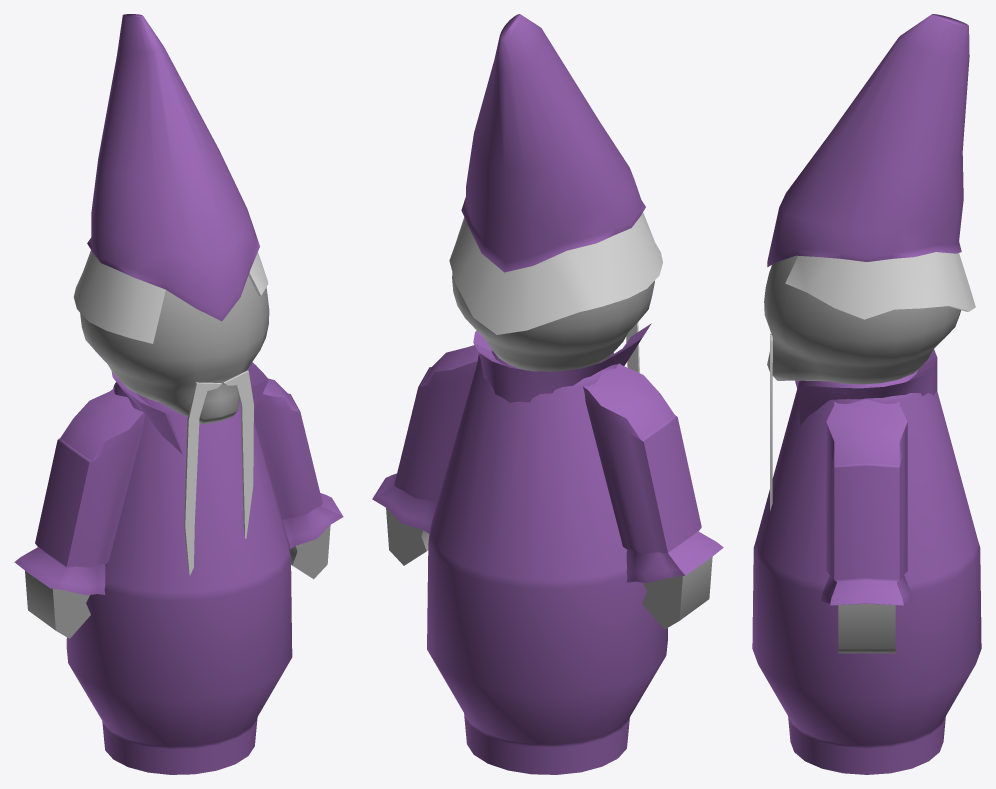
Rendered from DivinerModel.fbx.
3 renders of one model, left to right at view 1: azimuth 30°, elevation 25°; view 2: azimuth 150°, elevation 25°; view 3: azimuth 270°, elevation 25°, orthographic. The views are drawn at different scales.
Visible parts, largest first — view 1: pasted__pCylinder3, pasted__pCylinder8, pasted__pCube1, pasted__pSphere1, pasted__pCube3, pasted__pCylinder5, pasted__pPlane2, pasted__pCube2, pasted__pCylinder6, pasted__pCube4; view 2: pasted__pCylinder3, pasted__pCylinder8, pasted__pCube1, pasted__pCylinder5, pasted__pCube3, pasted__pSphere1, pasted__pCylinder6, pasted__pCube2, pasted__pCube4; view 3: pasted__pCylinder3, pasted__pCylinder8, pasted__pCube3, pasted__pSphere1, pasted__pCylinder5, pasted__pCube4, pasted__pCylinder6, pasted__pPlane2.
Part boxes in pixels (<box>): pasted__pCylinder3: <box>66,382,292,774</box>; pasted__pCylinder8: <box>87,14,259,321</box>; pasted__pCube1: <box>14,388,145,595</box>; pasted__pSphere1: <box>80,276,269,424</box>; pasted__pCube3: <box>254,378,343,548</box>; pasted__pCylinder5: <box>73,250,268,343</box>; pasted__pPlane2: <box>184,370,253,575</box>; pasted__pCube2: <box>25,571,90,638</box>; pasted__pCylinder6: <box>111,362,268,454</box>; pasted__pCube4: <box>290,525,330,579</box>; pasted__pCylinder3: <box>427,351,667,774</box>; pasted__pCylinder8: <box>461,14,645,272</box>; pasted__pCube1: <box>583,363,723,582</box>; pasted__pCylinder5: <box>449,212,662,334</box>; pasted__pCube3: <box>372,345,478,533</box>; pasted__pSphere1: <box>452,272,654,371</box>; pasted__pCylinder6: <box>473,323,651,402</box>; pasted__pCube2: <box>642,557,712,629</box>; pasted__pCube4: <box>386,508,429,565</box>; pasted__pCylinder3: <box>752,370,981,774</box>; pasted__pCylinder8: <box>767,14,969,267</box>; pasted__pCube3: <box>821,399,912,605</box>; pasted__pSphere1: <box>764,255,960,384</box>; pasted__pCylinder5: <box>785,252,975,319</box>; pasted__pCube4: <box>838,603,895,653</box>; pasted__pCylinder6: <box>795,349,937,424</box>; pasted__pPlane2: <box>770,330,772,510</box>.
Bounding box in the file's own units: 3.69 × 8.16 × 2.34.
